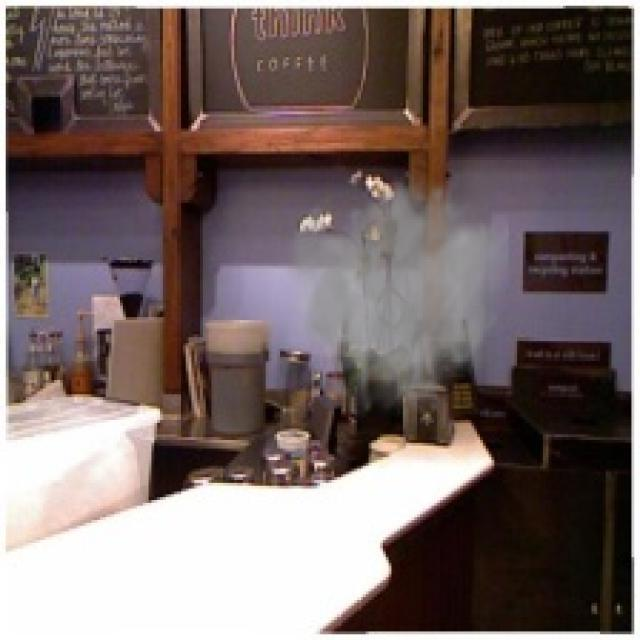Smoke: (272, 168, 508, 422)
